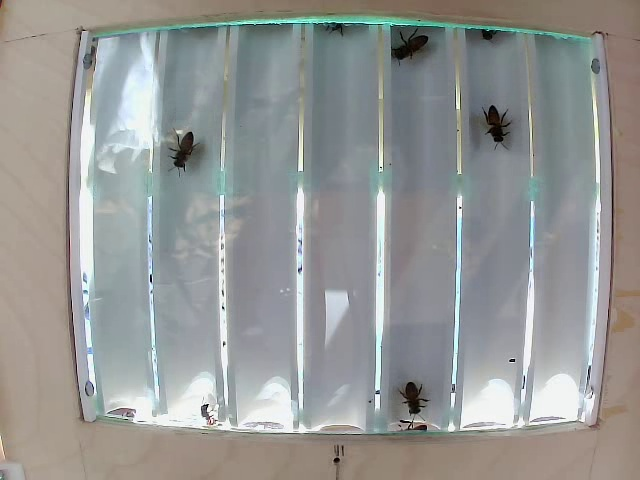bee: (469, 94, 523, 151), (392, 371, 448, 425), (154, 129, 219, 175), (387, 29, 432, 78)
